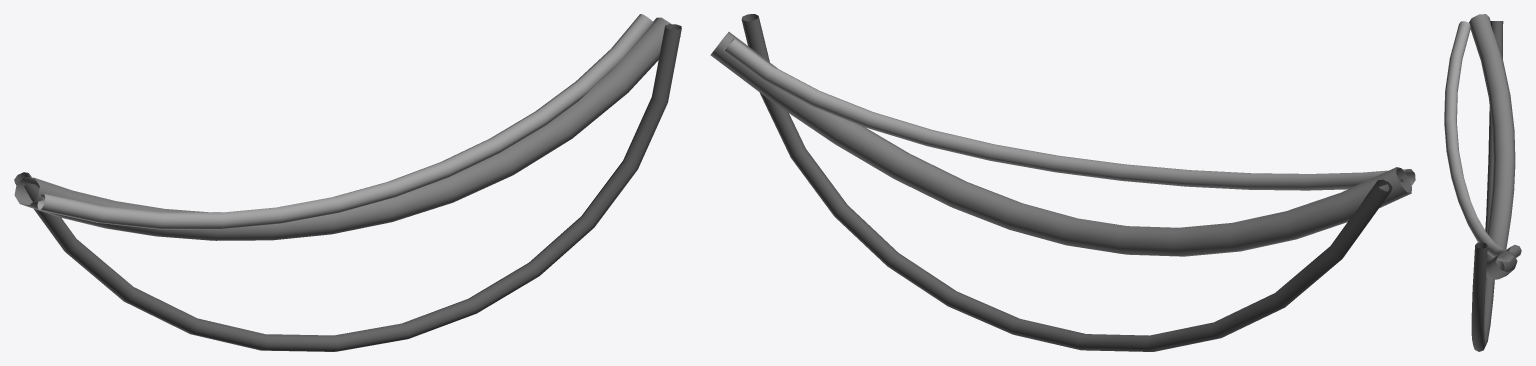
File: Cables02.fbx
3 renders of one model, left to right at view 1: azimuth 30°, elevation 25°; view 2: azimuth 150°, elevation 25°; view 3: azimuth 270°, elevation 25°, orthographic. The views are drawn at different scales.
Visible parts, largest first — view 1: BezierCurve.004; view 2: BezierCurve.004; view 3: BezierCurve.004.
Part boxes in pixels (bbox=[...]): BezierCurve.004: bbox=[14, 14, 681, 351]; BezierCurve.004: bbox=[710, 14, 1415, 351]; BezierCurve.004: bbox=[1444, 14, 1521, 351].
Bounding box in the file's own units: 319 × 115 × 43.85.
